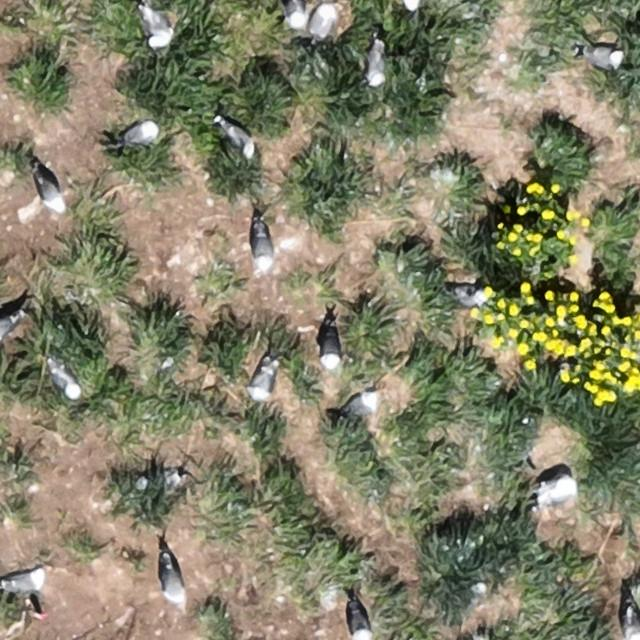umineko: (534, 478, 574, 503), (253, 224, 275, 268), (223, 122, 253, 154), (37, 174, 62, 211), (145, 9, 170, 46), (162, 560, 184, 602), (252, 364, 276, 398), (53, 367, 79, 398), (322, 325, 341, 367), (5, 572, 43, 593), (584, 48, 621, 69), (122, 122, 156, 143), (348, 605, 369, 639), (309, 6, 332, 36), (453, 287, 487, 307), (345, 393, 374, 416), (368, 42, 383, 85), (284, 0, 302, 26), (1, 316, 17, 340), (625, 610, 638, 638), (399, 0, 422, 9)
